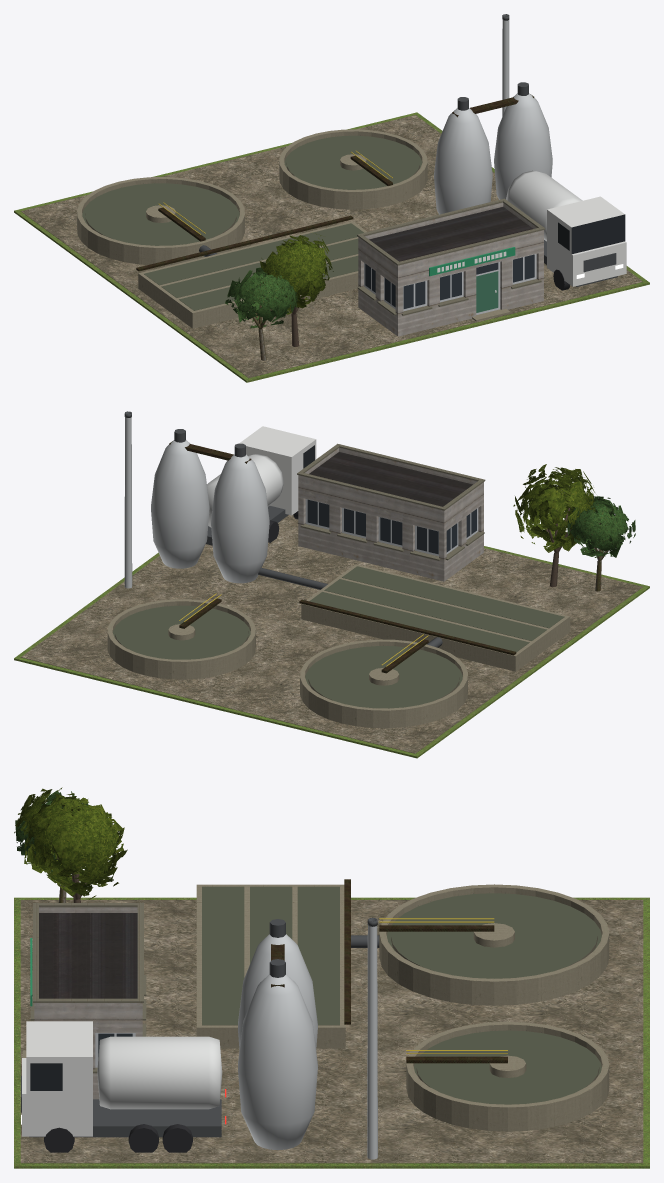
Rendered from sewage_plant.glb.
The picture shows the model from 3 angles, top to bottom: view 1: azimuth 30°, elevation 25°; view 2: azimuth 150°, elevation 25°; view 3: azimuth 270°, elevation 25°; orthographic projection. The views are drawn at different scales.
Visible parts, largest first — view 1: sewage_plant_body, sewage_plant_foliage; view 2: sewage_plant_body, sewage_plant_foliage; view 3: sewage_plant_body, sewage_plant_foliage.
Part boxes in pixels (x1=…): sewage_plant_body: x1=14, y1=14, x2=649, y2=382; sewage_plant_foliage: x1=225, y1=232, x2=333, y2=328; sewage_plant_body: x1=14, y1=411, x2=649, y2=758; sewage_plant_foliage: x1=513, y1=464, x2=635, y2=557; sewage_plant_body: x1=14, y1=841, x2=649, y2=1168; sewage_plant_foliage: x1=14, y1=787, x2=127, y2=899.
Bounding box in the file's own units: 0.94 × 0.392 × 0.94.
Materials: 30 (12 with a texture image).
